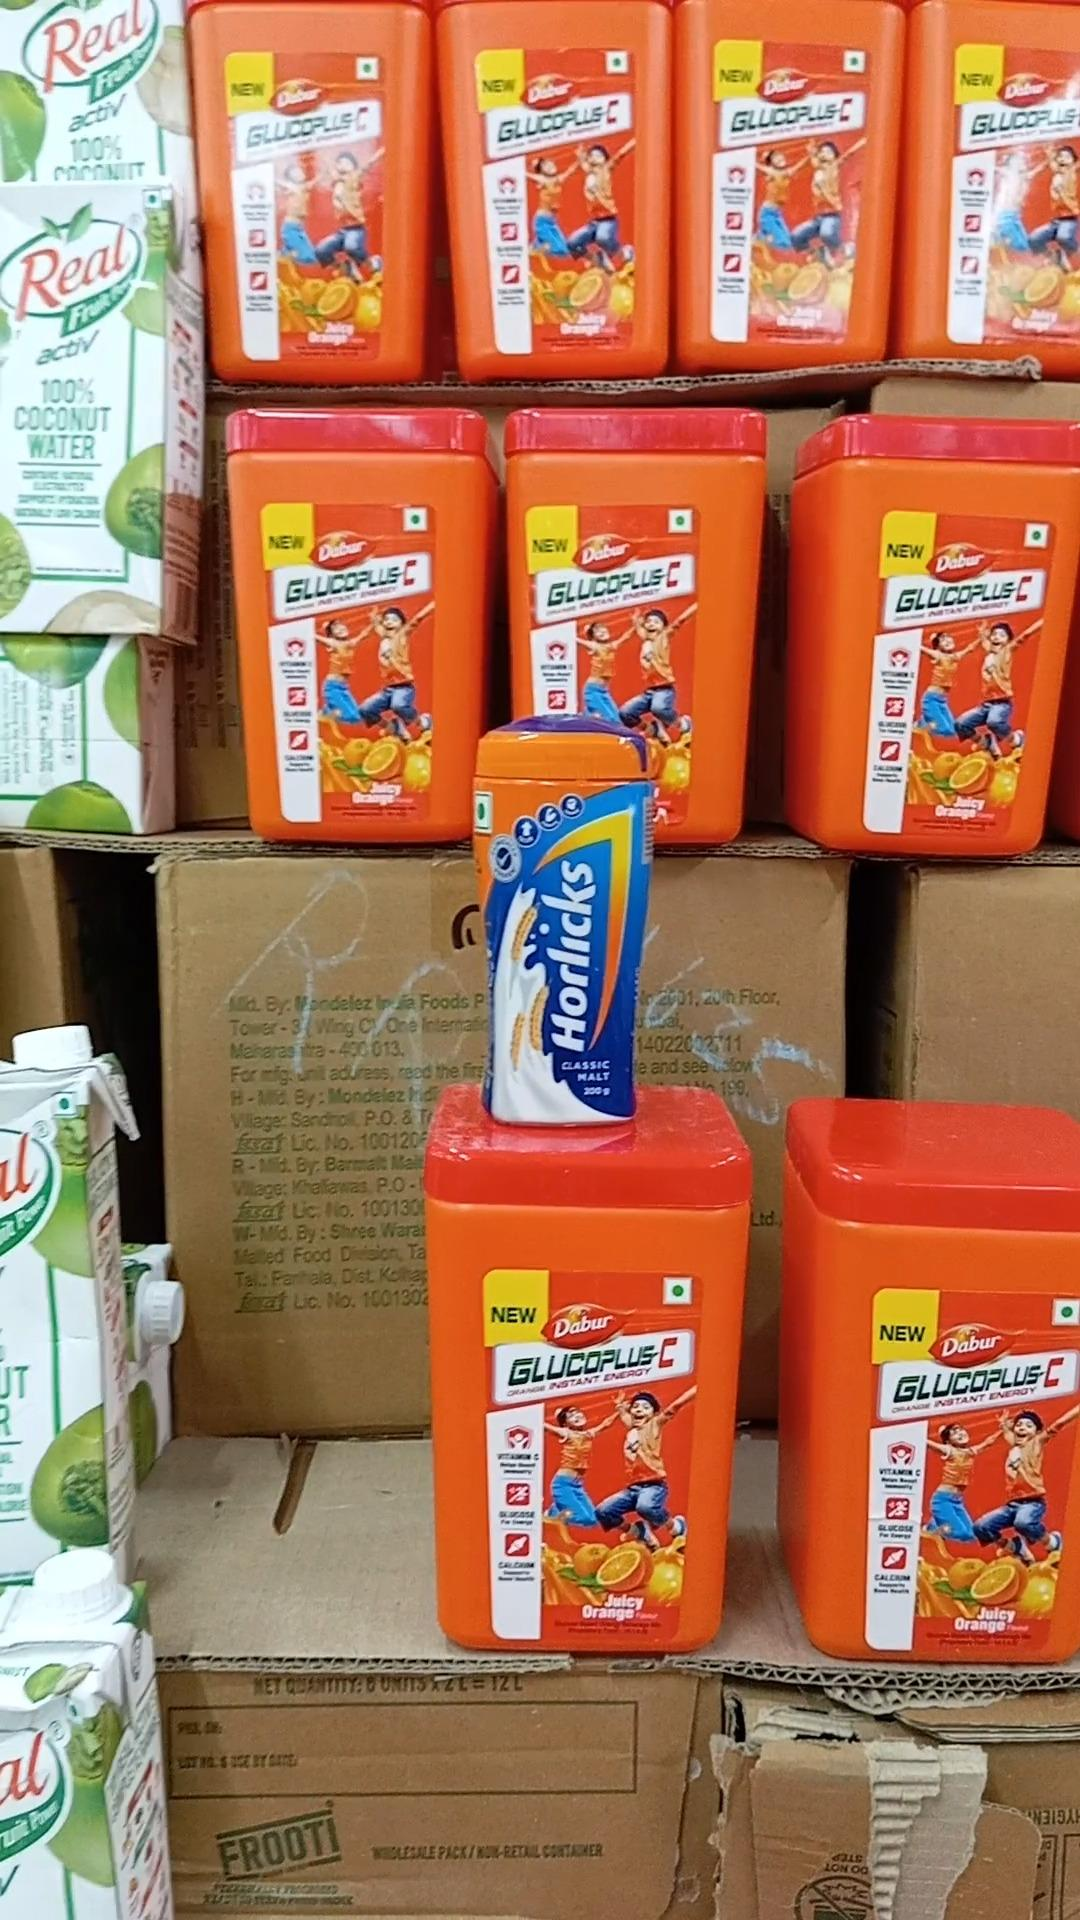HORLICK_CLASSIC_MALT_200_G_JAR: (473, 721, 637, 1124)
